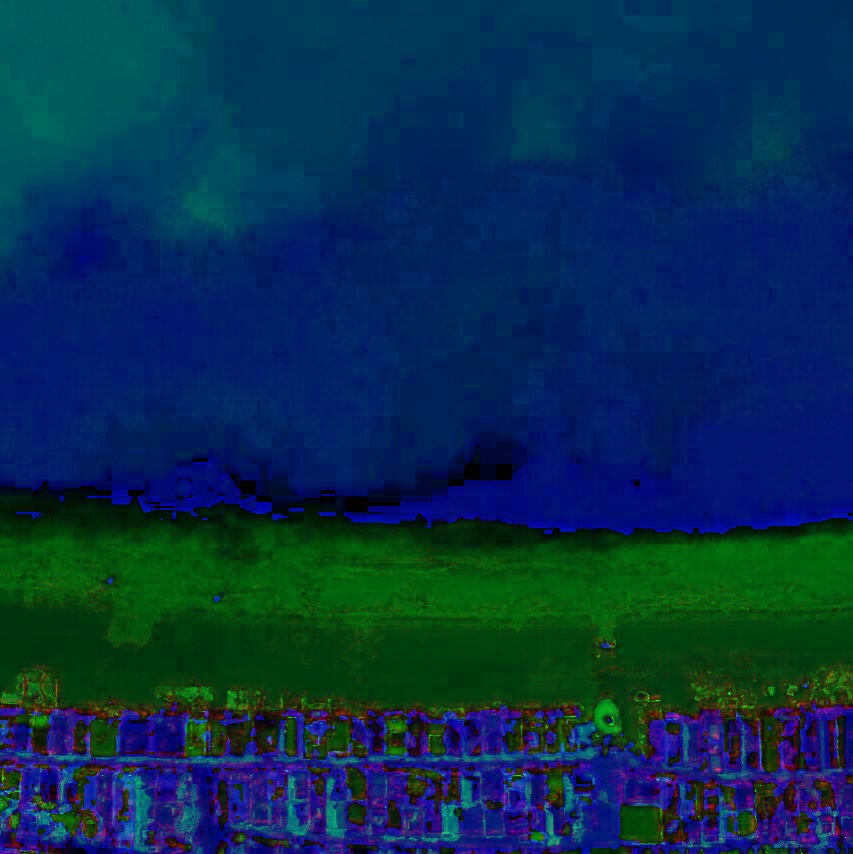rip_current: (326, 155, 584, 489)
